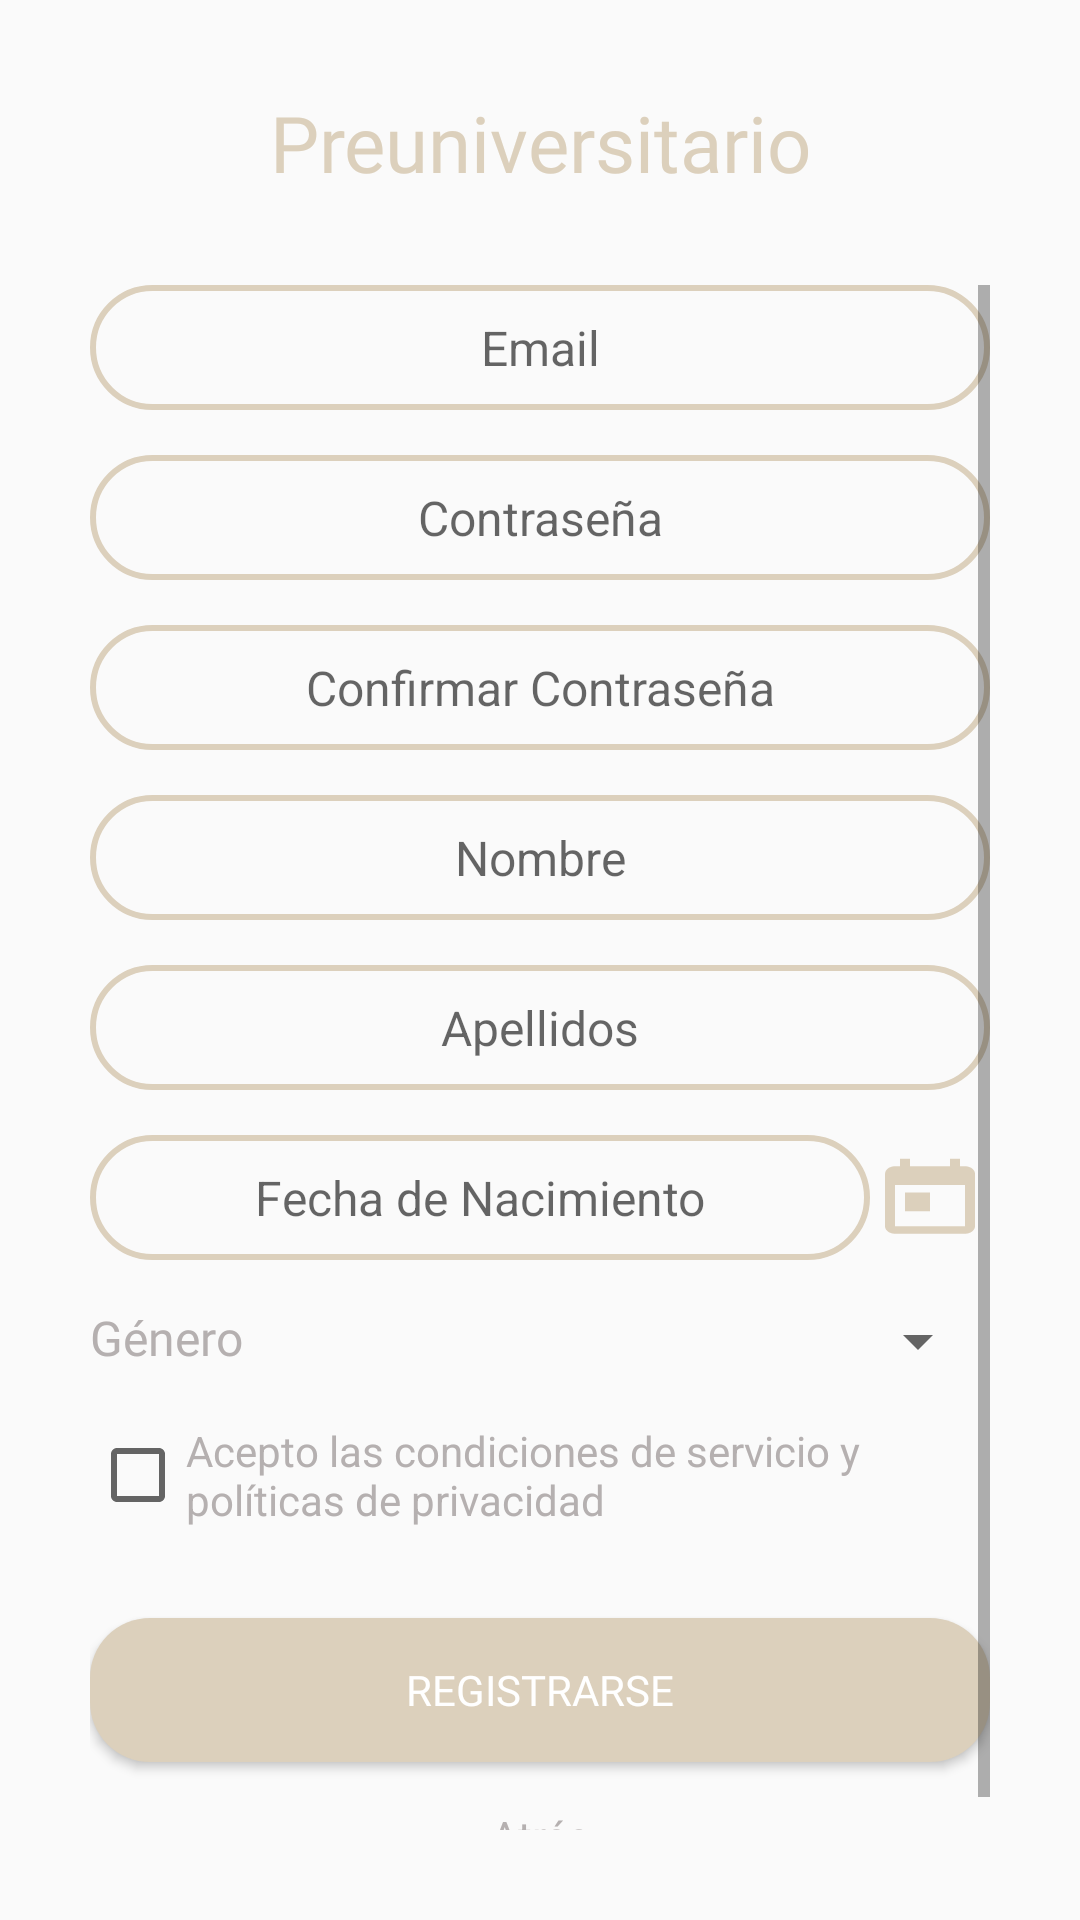

Icons on this 1080 × 1920 Android screen, each with the point to tap as [x,y]:
calendar: [930,1196]
